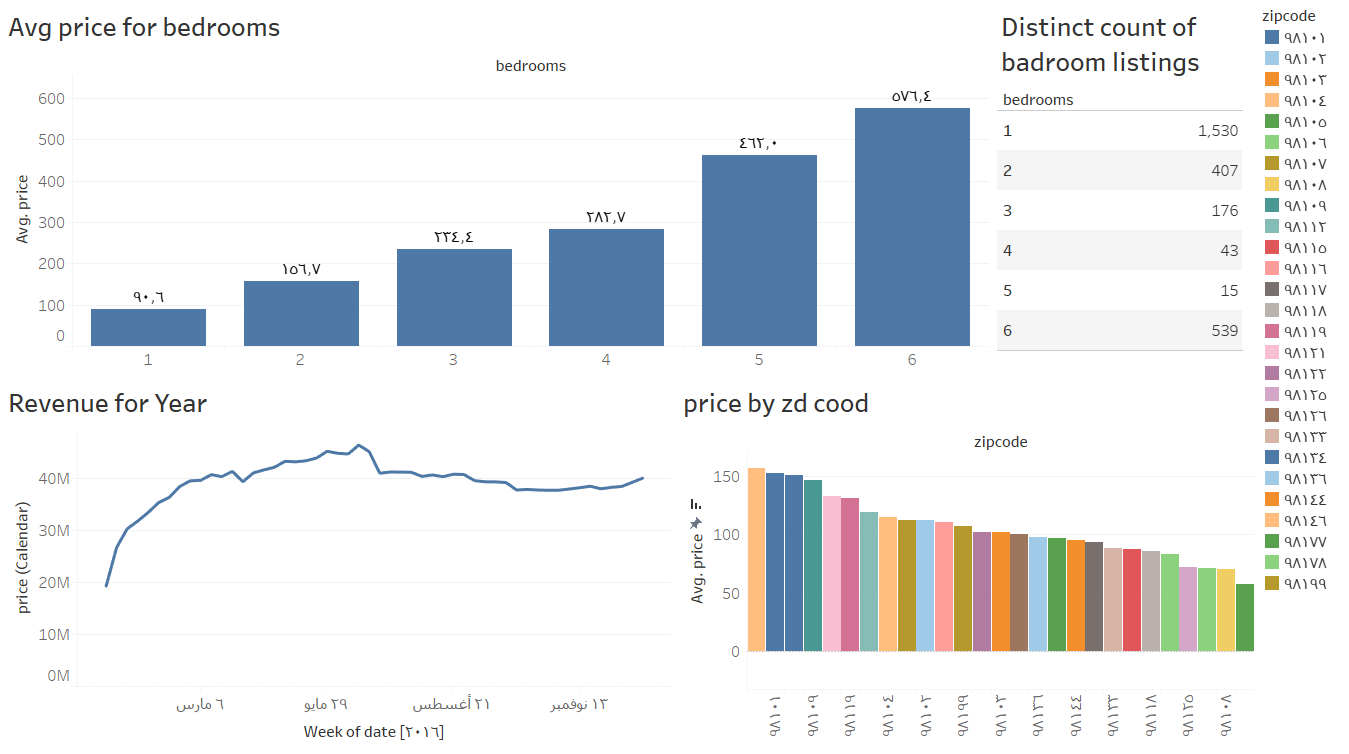

The page's visual inventory and layout, read from the dashboard file:
{"tool":"tableau","page":{"name":"Dashboard 1","canvas":[1366,768],"ordinal":0},"visuals":[{"type":"worksheet","title":"Sheet 3","mark":"Automatic","rows":["price"],"cols":["bedrooms"],"box":[8,8,993.3,376]},{"type":"worksheet","title":"Sheet 4","mark":"Automatic","rows":["bedrooms"],"box":[1001.3,8,264.7,376]},{"type":"legend","title":"Sheet 1","param":"[federated.0fx8y5x041icii1cmw7401qg47rl].[none:zipcode:ok]","box":[1266,8,92,597]},{"type":"worksheet","title":"Sheet 2","mark":"Automatic","rows":["price (Calendar)"],"cols":["date"],"box":[8,384,675,376]},{"type":"worksheet","title":"Sheet 1","mark":"Automatic","rows":["price"],"cols":["zipcode"],"box":[683,384,583,376]}]}

Visuals, with their boxes in screenshot pixels (x1, y1, x2, y2), scaled from the page's 1366x768 canvas onto the 1349x754 screenshot:
"Sheet 3" worksheet: bbox(8, 8, 989, 377)
"Sheet 4" worksheet: bbox(989, 8, 1250, 377)
"Sheet 1" legend: bbox(1250, 8, 1341, 594)
"Sheet 2" worksheet: bbox(8, 377, 674, 746)
"Sheet 1" worksheet: bbox(674, 377, 1250, 746)
